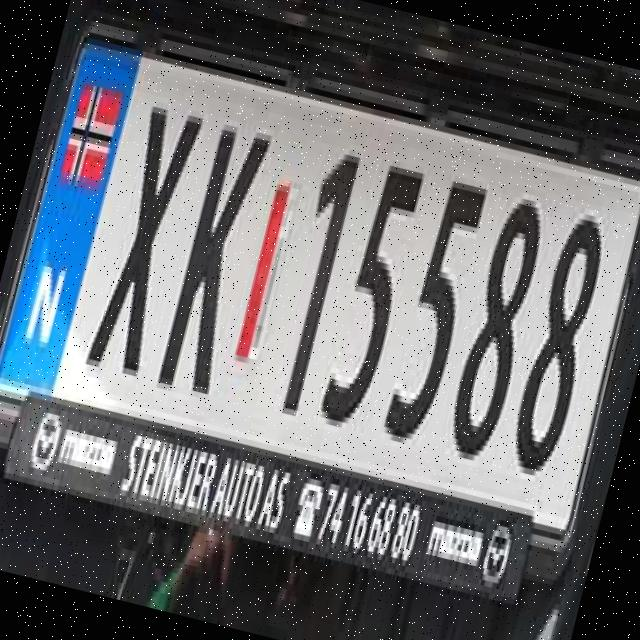EU: (0, 35, 640, 525)
Pays-Bas: (0, 41, 144, 400)
